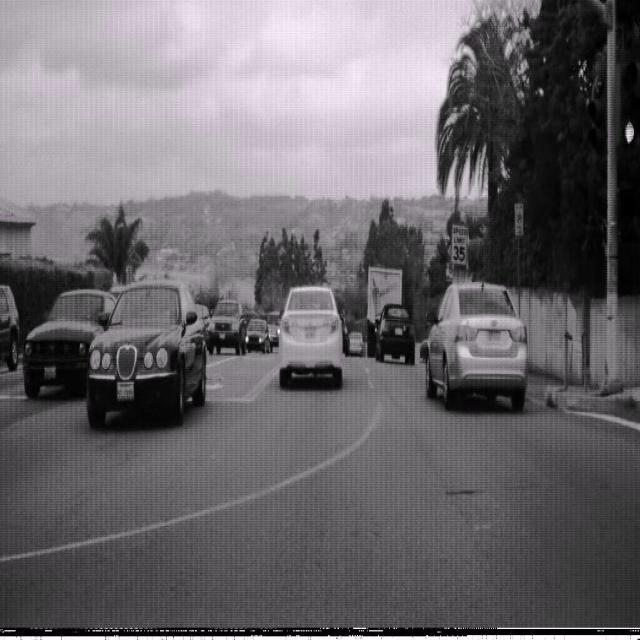speedLimit35: (450, 222, 469, 267)
